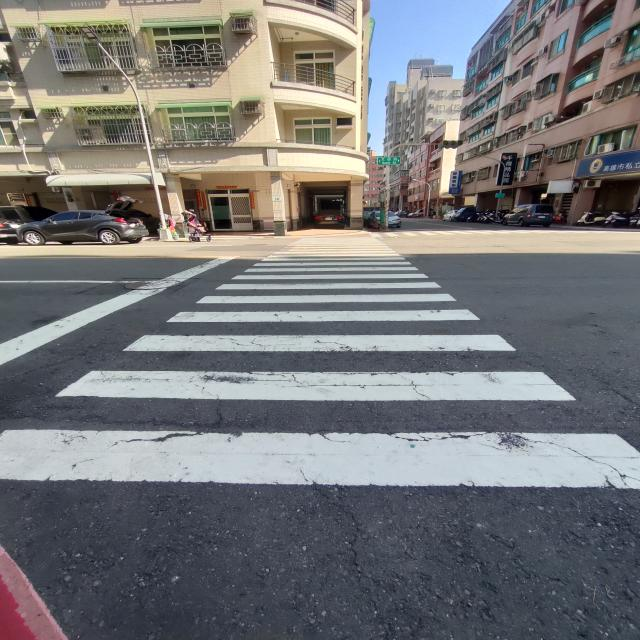zebra crossing: (0, 237, 640, 493), (369, 230, 640, 237)
